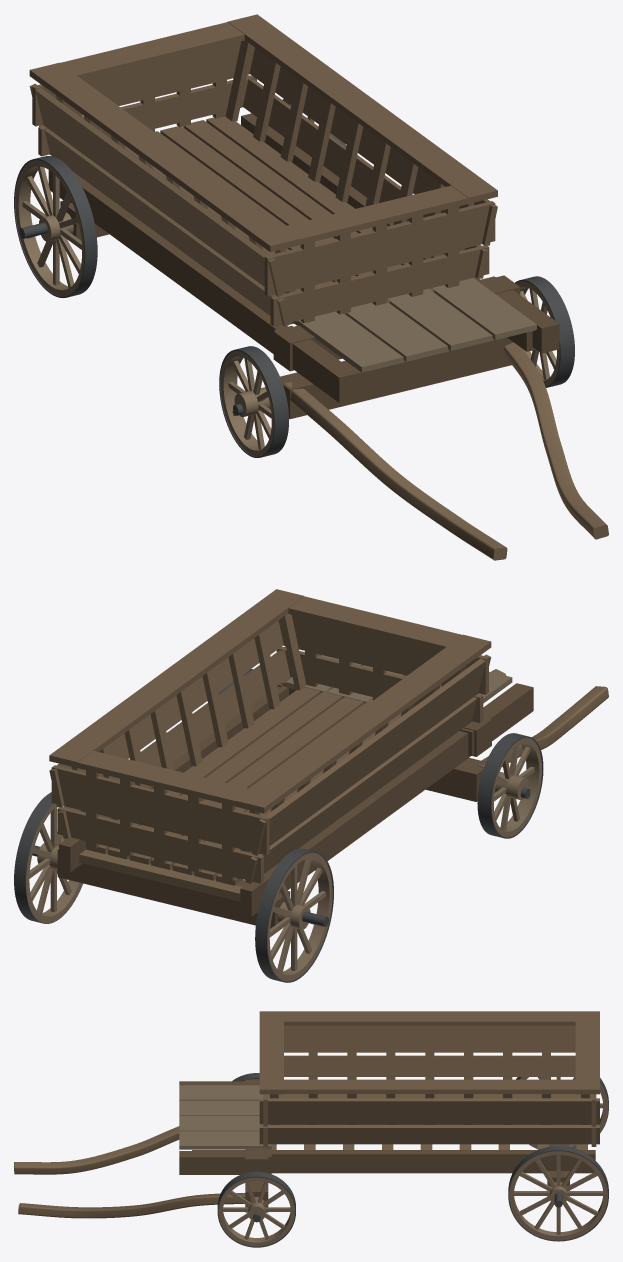
3 views of the same model, one above another, from view 1: azimuth 30°, elevation 25°; view 2: azimuth 150°, elevation 25°; view 3: azimuth 270°, elevation 25° (orthographic). The views are drawn at different scales.
Visible parts, largest first — view 1: end_upper_board, side_top_rail, upper_board, side_top_rail.001, chassis_beam.001, lower_board, axle_bolster.001, end_upper_board.001, bent_shaft.001, end_lower_board, end_top_rail, bent_shaft (+26 smaller); view 2: end_upper_board.001, side_top_rail, upper_board, side_top_rail.001, chassis_beam.001, lower_board, end_upper_board, end_lower_board.001, axle_bolster, end_top_rail.001, end_top_rail, upper_board.001 (+26 smaller); view 3: upper_board.001, chassis_beam.002, lower_board.001, upper_board, lower_board, side_top_rail.001, side_top_rail, bent_shaft, bent_shaft.001, platform_bearer.002, wood_rim, platform_plank.004 (+20 smaller).
Part boxes in pixels (<box>): end_upper_board: <box>264,201,495,296</box>; side_top_rail: <box>29,62,299,251</box>; upper_board: <box>29,83,283,296</box>; side_top_rail.001: <box>228,14,497,203</box>; chassis_beam.001: <box>48,170,287,353</box>; lower_board: <box>39,125,290,326</box>; axle_bolster.001: <box>280,337,513,419</box>; end_upper_board.001: <box>32,41,254,126</box>; bent_shaft.001: <box>284,382,507,560</box>; end_lower_board: <box>270,245,489,326</box>; end_top_rail: <box>253,185,497,252</box>; bent_shaft: <box>504,342,608,539</box>; end_upper_board.001: <box>51,765,269,855</box>; side_top_rail: <box>236,634,491,812</box>; upper_board: <box>251,654,491,855</box>; side_top_rail.001: <box>49,589,304,767</box>; chassis_beam.001: <box>240,731,470,916</box>; lower_board: <box>245,693,482,883</box>; end_upper_board: <box>278,614,488,694</box>; end_lower_board.001: <box>57,807,263,883</box>; axle_bolster: <box>57,849,290,928</box>; end_top_rail.001: <box>49,750,279,813</box>; end_top_rail: <box>288,596,491,658</box>; upper_board.001: <box>49,620,283,807</box>; upper_board.001: <box>259,1098,599,1124</box>; chassis_beam.002: <box>192,1150,595,1173</box>; lower_board.001: <box>259,1125,599,1144</box>; upper_board: <box>284,1025,575,1052</box>; lower_board: <box>284,1055,575,1076</box>; side_top_rail.001: <box>259,1079,599,1093</box>; side_top_rail: <box>259,1011,599,1025</box>; bent_shaft: <box>18,1193,245,1218</box>; bent_shaft.001: <box>14,1126,179,1174</box>; platform_bearer.002: <box>179,1151,271,1174</box>; wood_rim: <box>509,1151,607,1240</box>; platform_plank.004: <box>179,1131,271,1149</box>.
Size of the model in its own units: 0.8055 by 0.497 by 1.82.
